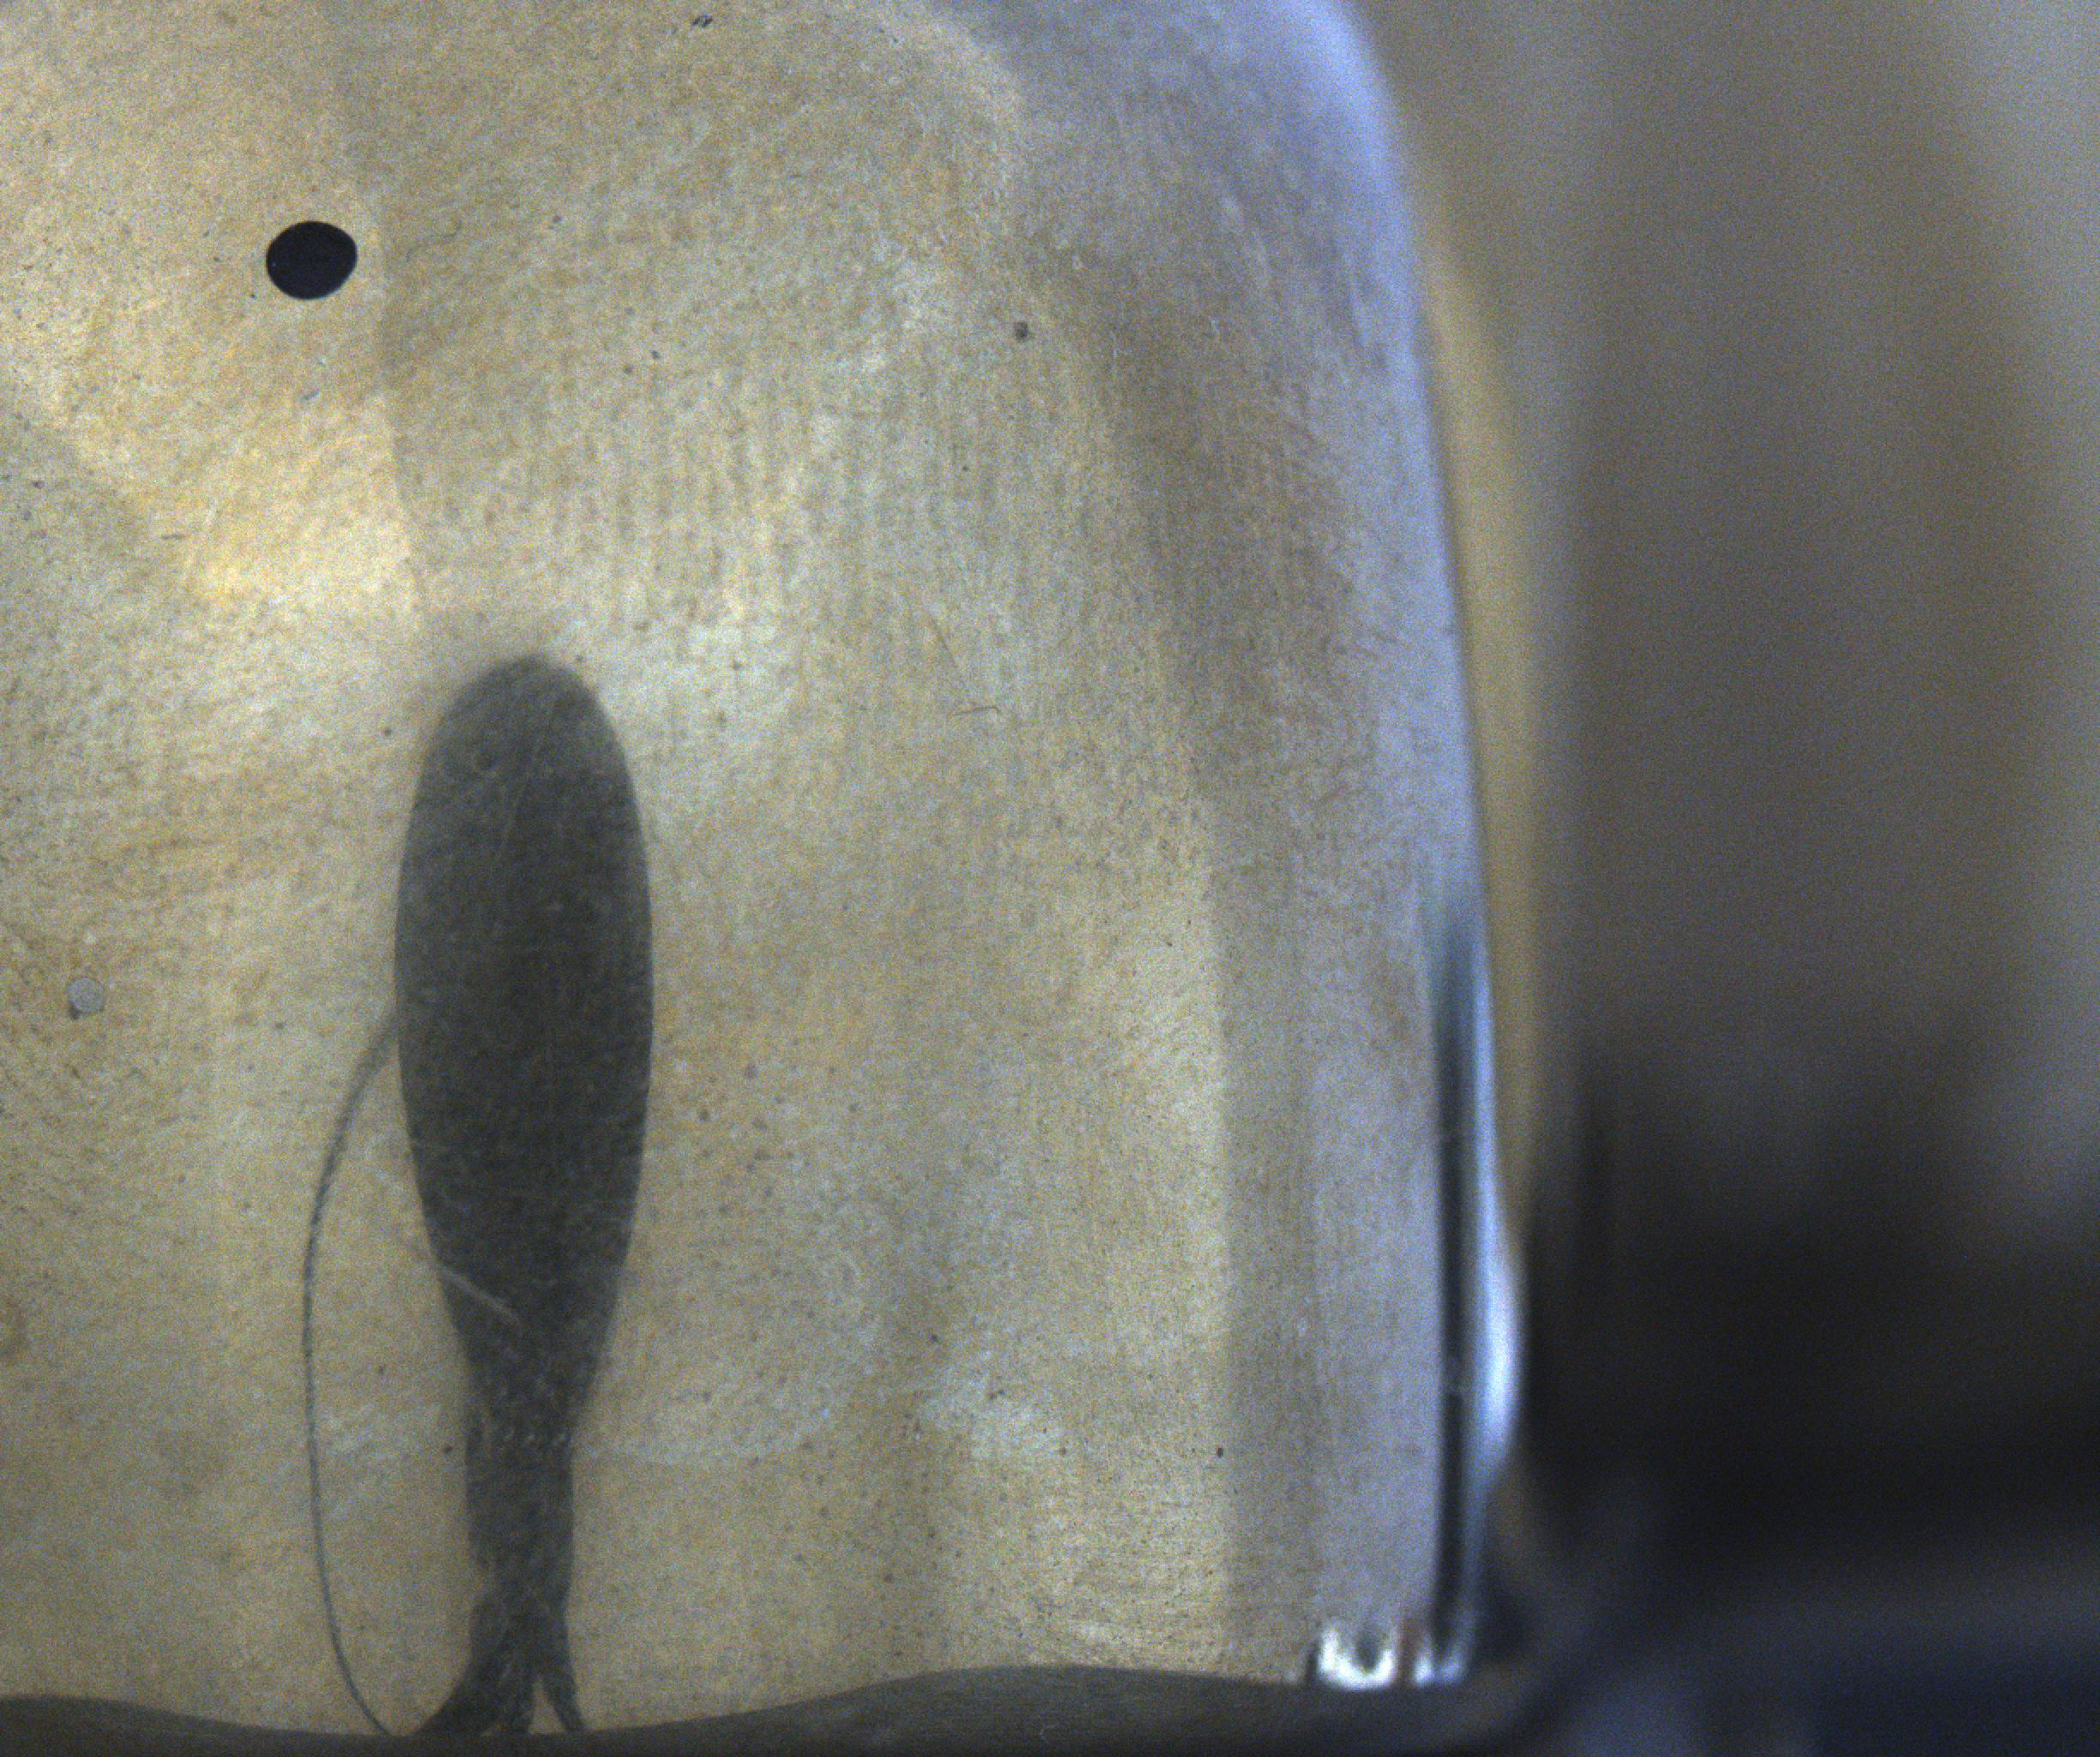hole: (242, 201, 378, 316)
